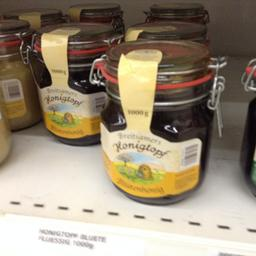honey: (83, 40, 232, 206), (23, 22, 120, 150)
